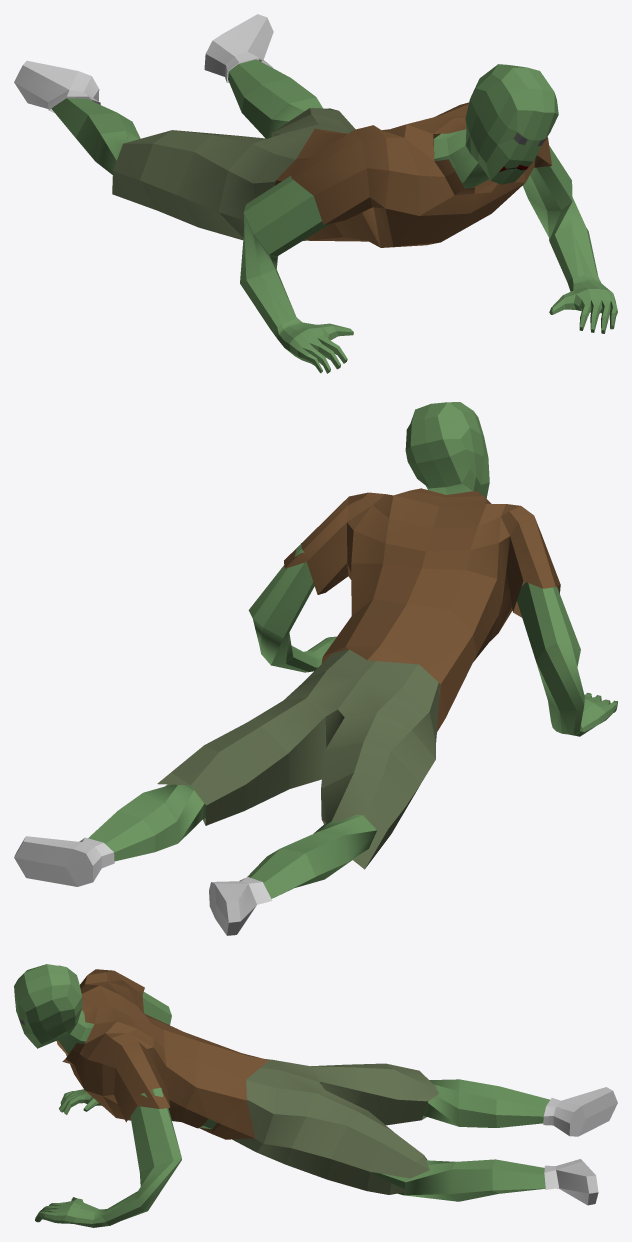
File: ZombieCrawl(147).obj
3 renders of one model, top to bottom at view 1: azimuth 30°, elevation 25°; view 2: azimuth 150°, elevation 25°; view 3: azimuth 270°, elevation 25°, orthographic. The views are drawn at different scales.
Visible parts, largest first — view 1: Object001; view 2: Object001; view 3: Object001.
Boxes of the visible parts, <box> form: Object001: <box>14,14,617,373</box>; Object001: <box>14,402,617,935</box>; Object001: <box>14,964,617,1227</box>.
Bounding box in the file's own units: 29.58 × 23.42 × 57.03.
